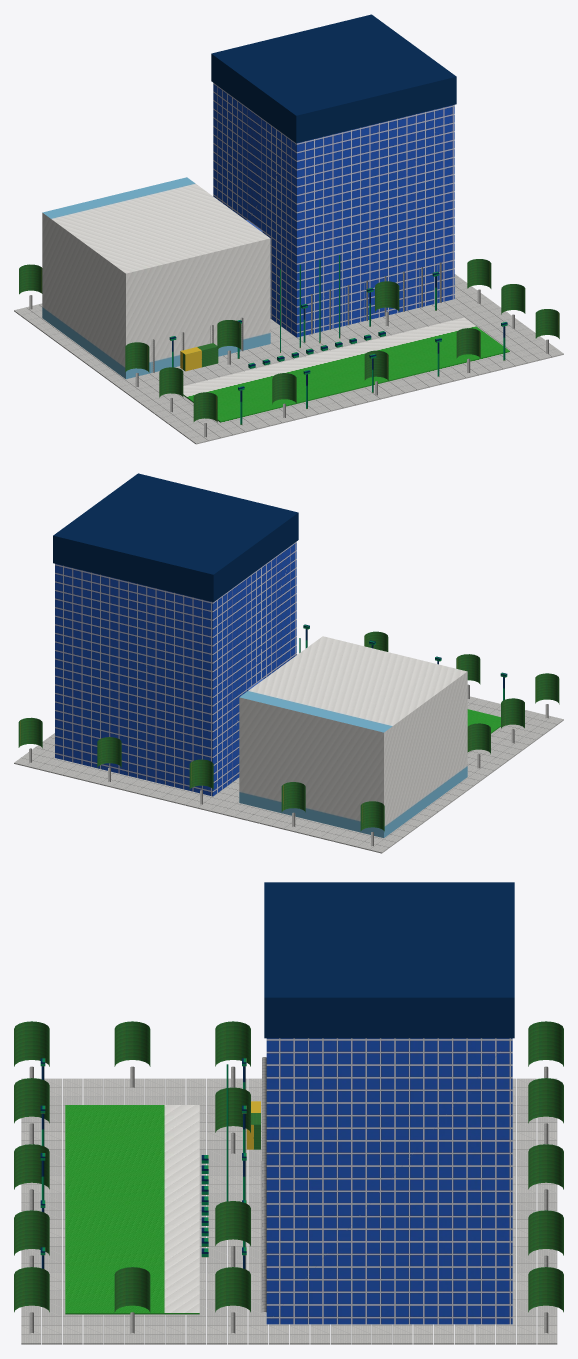
3 views of the same model, one above another, from view 1: azimuth 30°, elevation 25°; view 2: azimuth 150°, elevation 25°; view 3: azimuth 270°, elevation 25° (orthographic). The views are drawn at different scales.
Parts seen in each view (by area): view 1: 28185_B41_Yeonsu_gu_Office_Complex; view 2: 28185_B41_Yeonsu_gu_Office_Complex; view 3: 28185_B41_Yeonsu_gu_Office_Complex.
Part boxes in pixels (x1,y1,x2,y2): 28185_B41_Yeonsu_gu_Office_Complex: (14,14,563,444); 28185_B41_Yeonsu_gu_Office_Complex: (14,473,563,853); 28185_B41_Yeonsu_gu_Office_Complex: (14,882,563,1344).
Bounding box in the file's own units: 55.95 × 32.5 × 49.2.
Materials: 1 (1 with a texture image).
